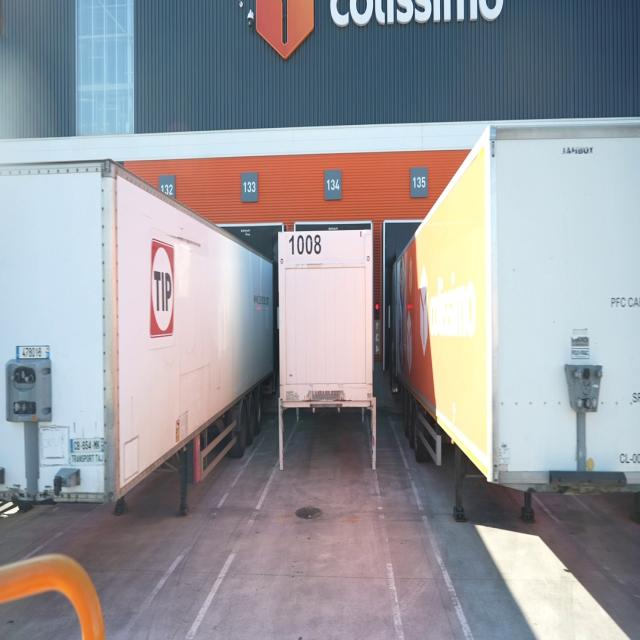Code: (284, 231, 326, 260)
